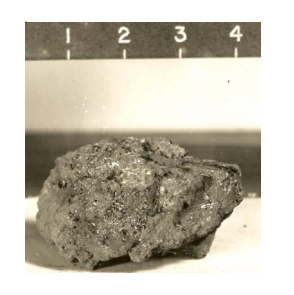Breccia: (30, 126, 249, 269)
